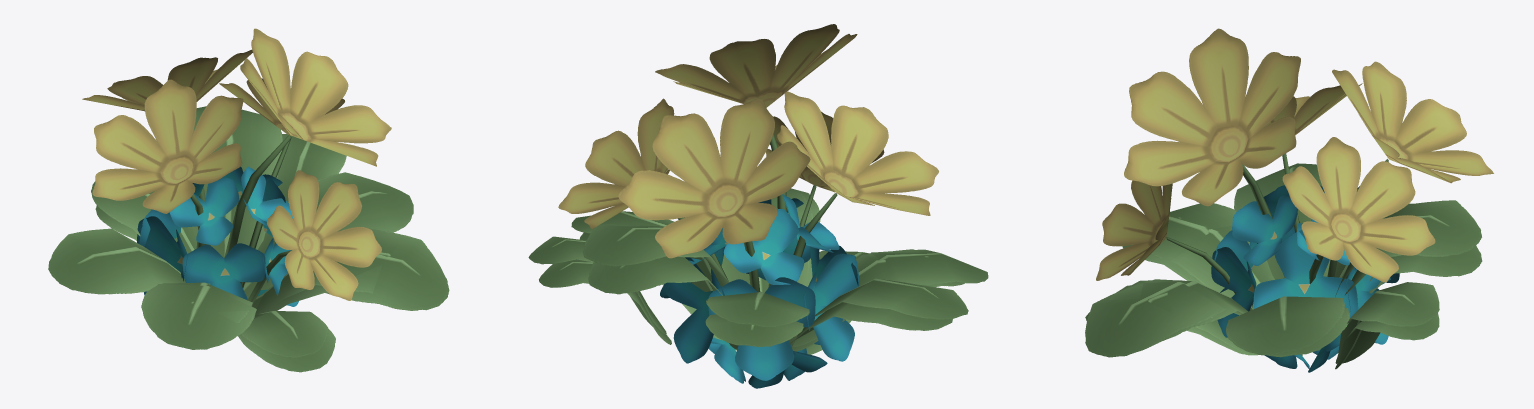
Rendered from flower-bushes.glb.
The picture shows the model from 3 angles, left to right: view 1: azimuth 30°, elevation 25°; view 2: azimuth 150°, elevation 25°; view 3: azimuth 270°, elevation 25°; orthographic projection. The views are drawn at different scales.
Parts seen in each view (by area): view 1: Plant_Flowers, Petals_1, Plant_2; view 2: Plant_Flowers, Petals_1, Plant_2; view 3: Plant_Flowers, Petals_1, Plant_2.
Boxes of the visible parts, x1,y1,x2,y2 form: Plant_Flowers: (48, 28, 449, 372); Petals_1: (137, 166, 298, 306); Plant_2: (95, 205, 396, 357); Plant_Flowers: (528, 24, 988, 354); Petals_1: (660, 194, 859, 388); Plant_2: (539, 191, 964, 354); Plant_Flowers: (1085, 28, 1493, 363); Petals_1: (1211, 185, 1399, 372); Plant_2: (1109, 217, 1482, 369).
Size of the model in its own units: 1.48 by 1.18 by 1.53.
Materials: 1 (1 with a texture image).
